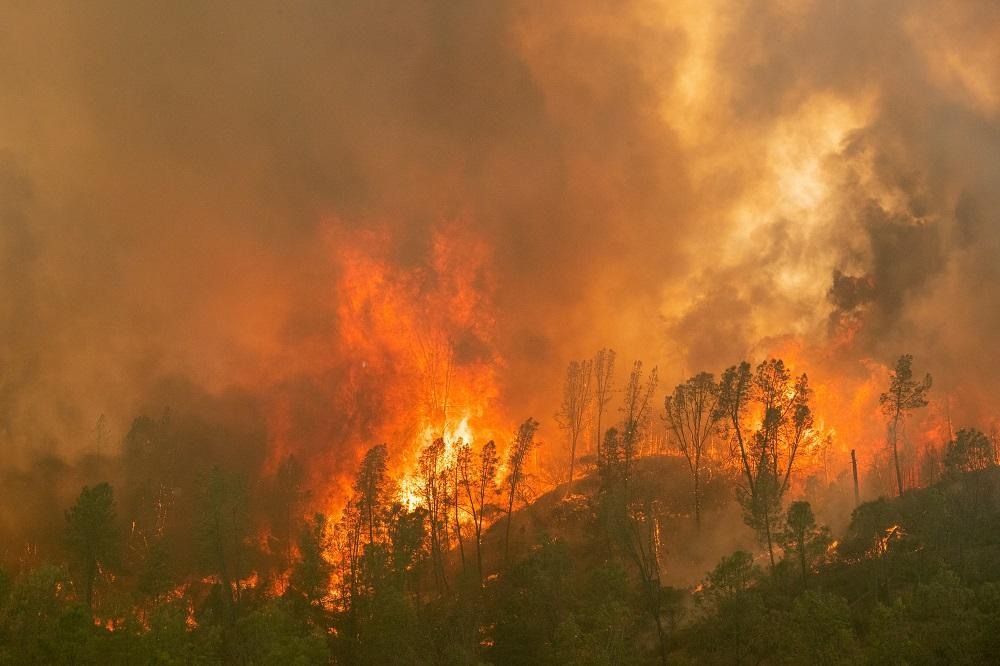fire: (711, 345, 913, 577), (353, 257, 507, 545), (120, 529, 365, 666)
